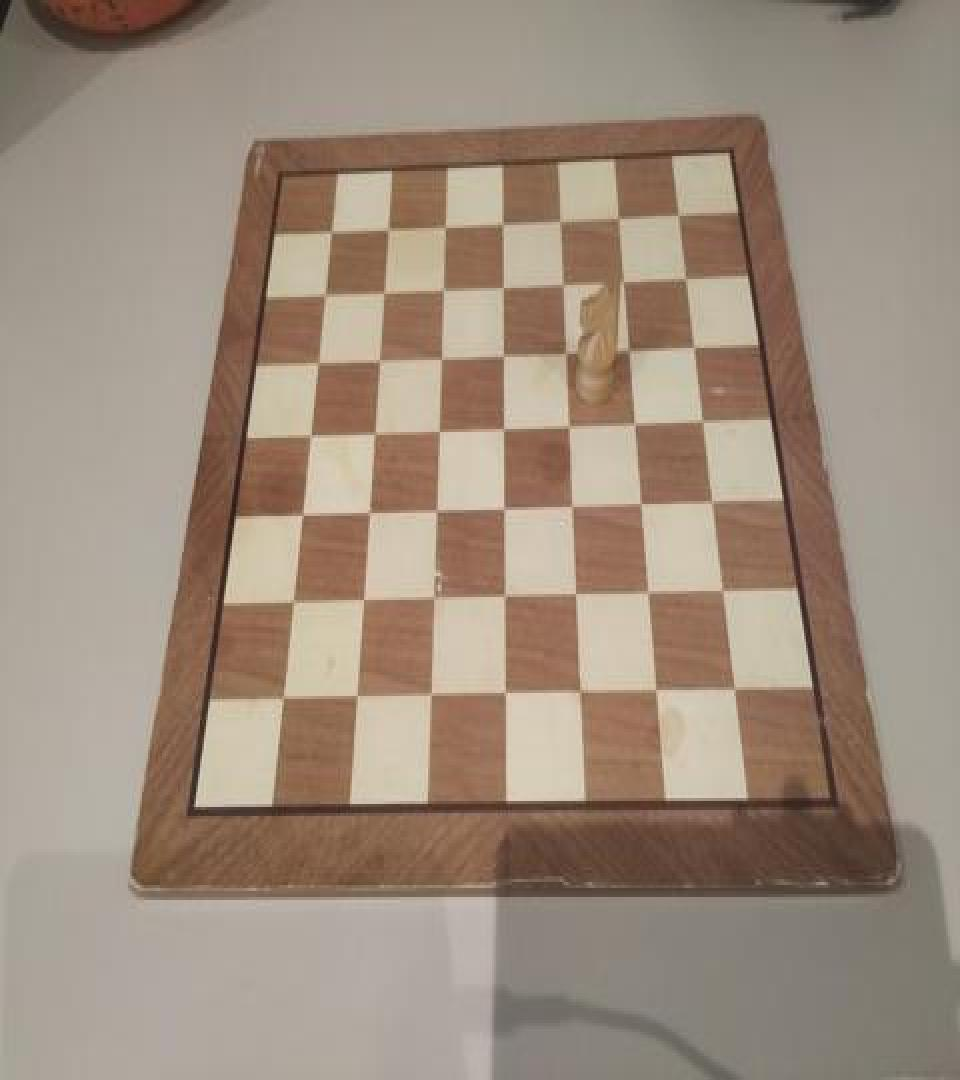xcorner: (358, 499, 378, 530), (669, 199, 689, 230), (271, 687, 291, 717), (345, 686, 365, 716), (420, 684, 440, 714), (572, 681, 592, 711), (649, 680, 669, 710), (726, 678, 746, 708), (281, 590, 301, 620), (352, 588, 372, 618), (495, 585, 515, 615), (568, 584, 588, 614), (714, 579, 734, 609), (290, 501, 310, 531), (426, 496, 446, 526), (495, 495, 515, 525), (564, 494, 584, 524), (633, 490, 653, 520), (703, 489, 723, 519), (298, 420, 318, 450), (363, 417, 383, 447), (428, 416, 448, 446), (494, 414, 514, 444), (560, 411, 580, 441), (627, 410, 647, 440), (693, 406, 713, 436), (306, 345, 326, 375), (368, 344, 388, 374), (431, 340, 451, 370), (494, 339, 514, 369), (557, 336, 577, 366), (620, 334, 640, 364), (684, 332, 704, 362), (313, 278, 333, 308), (373, 274, 393, 304), (433, 273, 453, 303), (493, 270, 513, 300), (554, 267, 574, 297), (615, 266, 635, 296), (676, 262, 696, 292), (319, 213, 339, 243), (377, 212, 397, 242), (435, 208, 455, 238), (493, 207, 513, 237), (551, 204, 571, 234), (610, 202, 630, 232), (496, 683, 516, 712), (423, 587, 443, 616), (641, 581, 661, 610)
